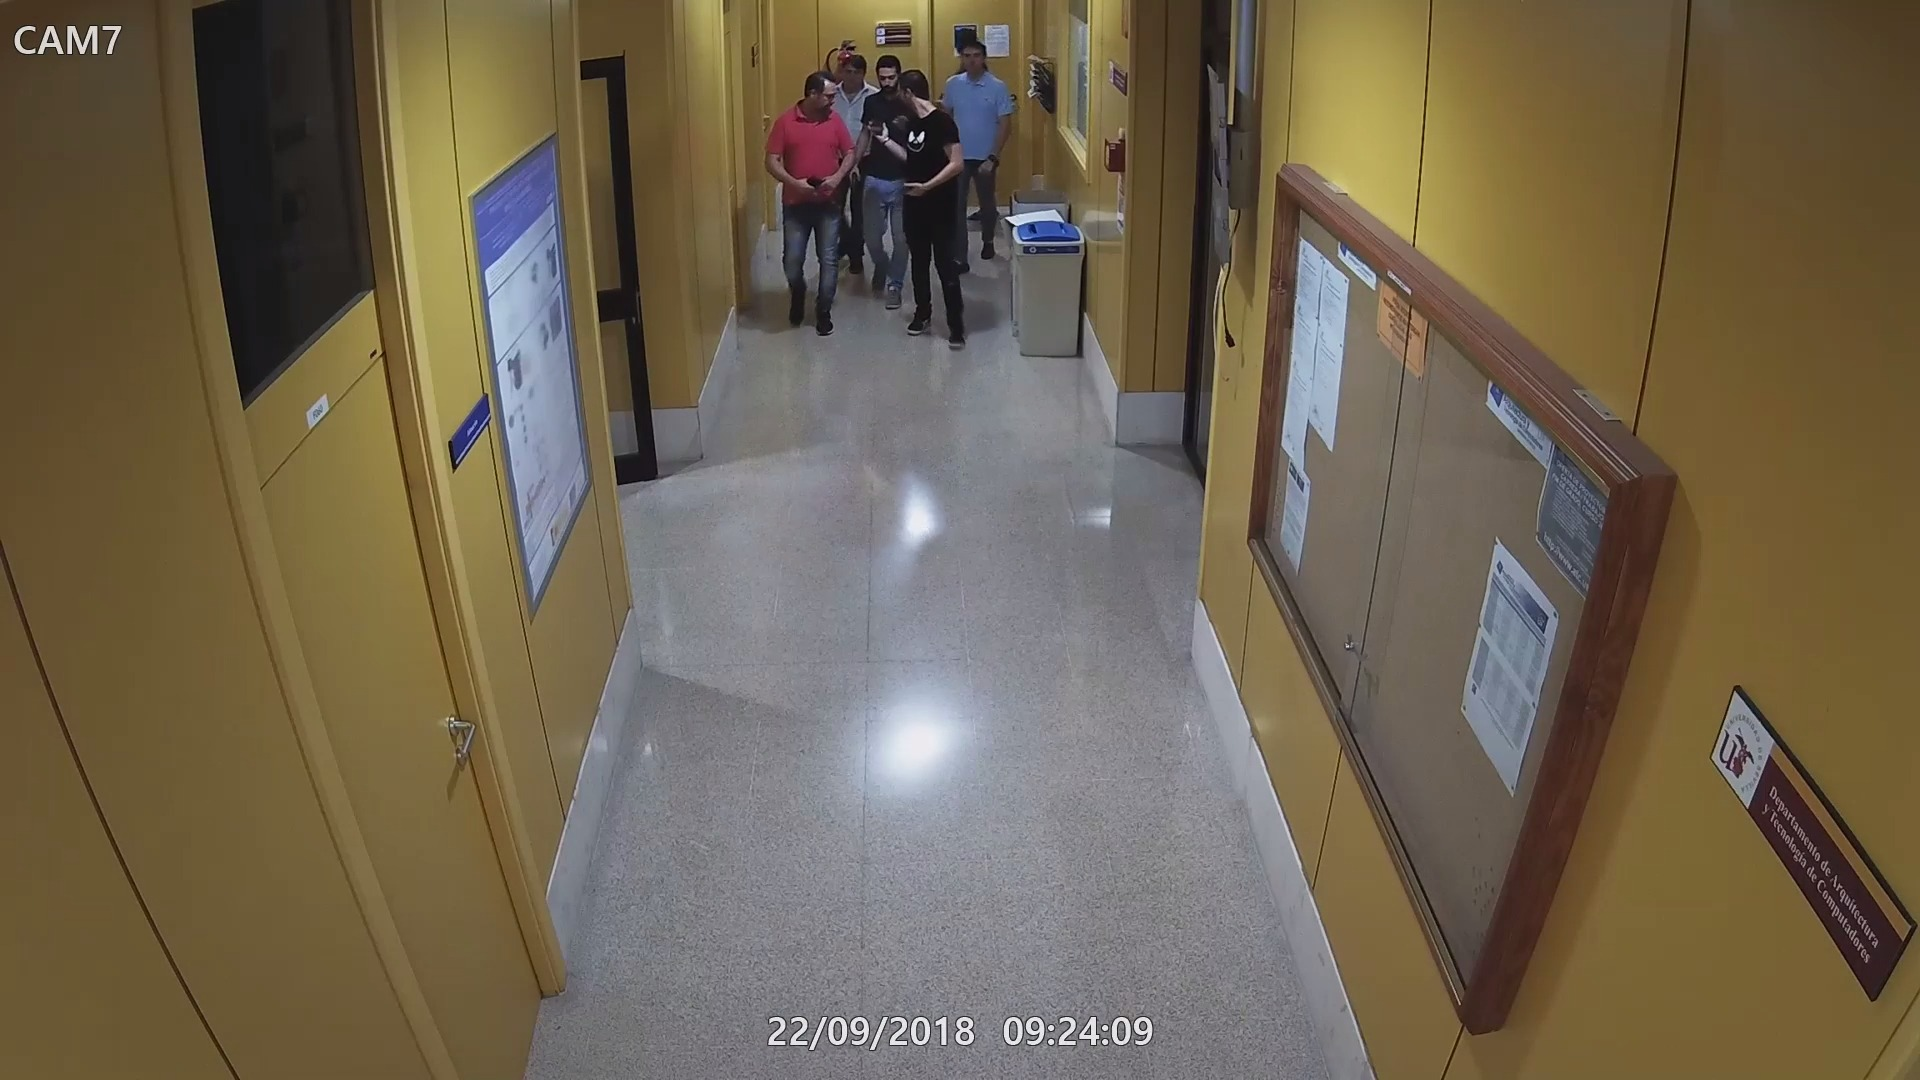Handgun: (794, 170, 829, 196), (843, 166, 868, 202)
